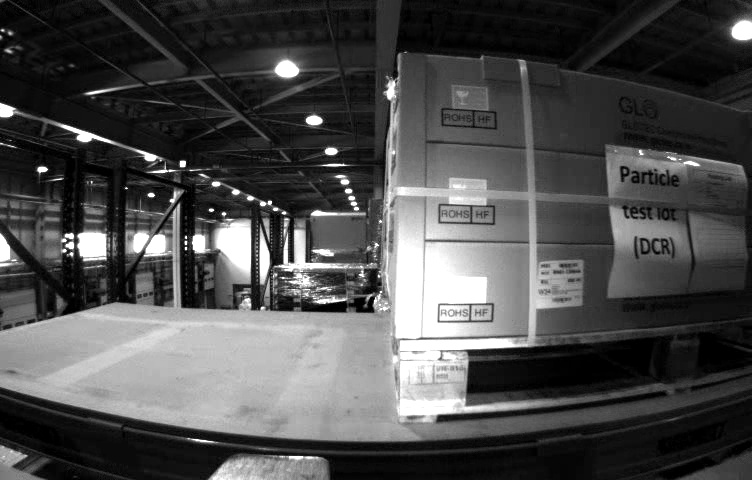True Barcode: (534, 260, 581, 306)
